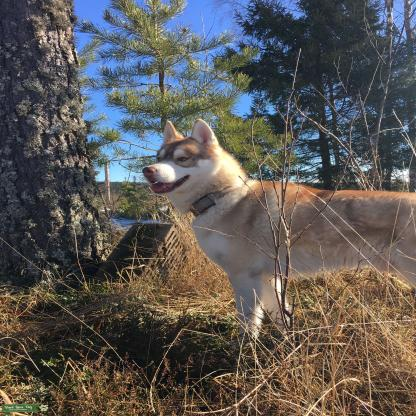dog: (139, 118, 416, 345)
